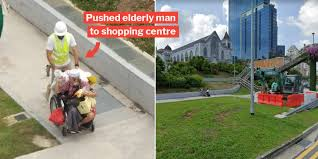hard hat: (54, 21, 67, 35)
high-vis: (50, 32, 71, 65)
